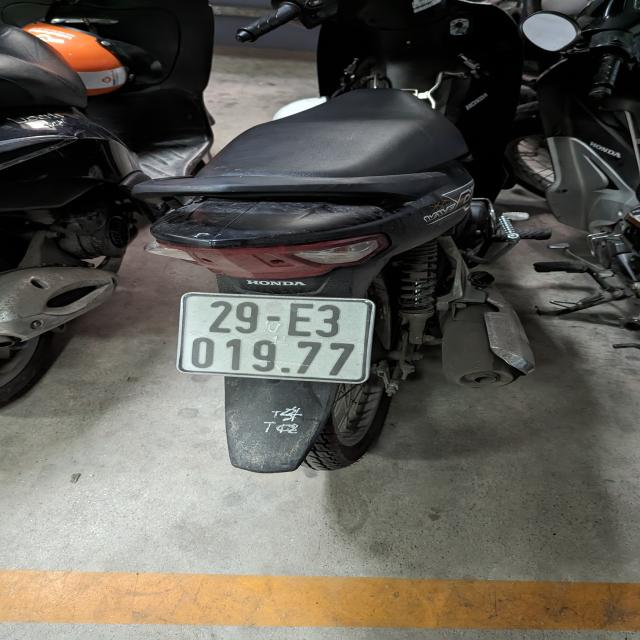License: (176, 291, 376, 384)
